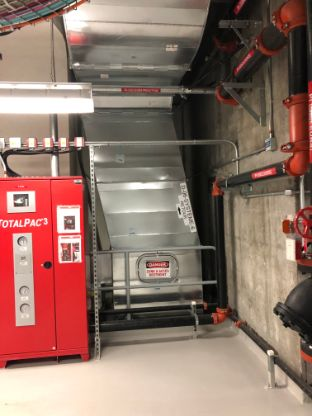Duct: (57, 1, 226, 323)
